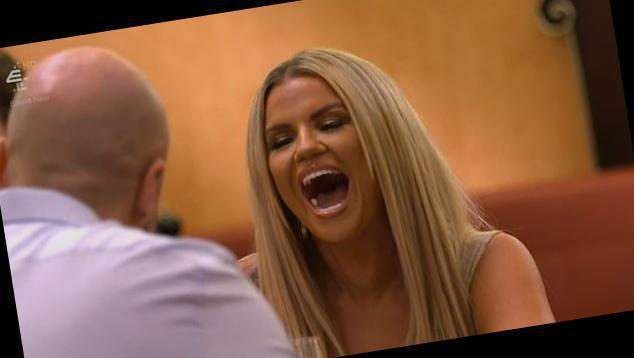Drunk: (266, 79, 381, 241)
